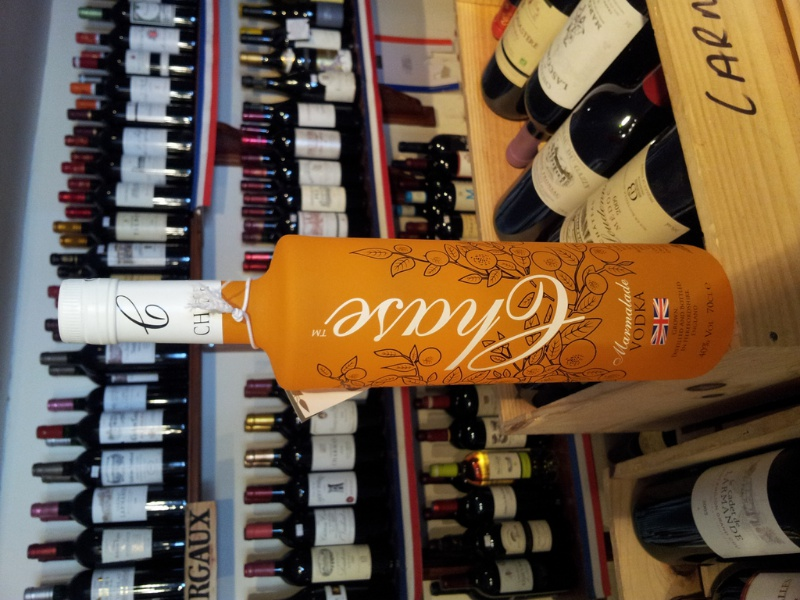wine: (15, 351, 799, 596), (52, 7, 721, 250), (48, 233, 737, 396)
